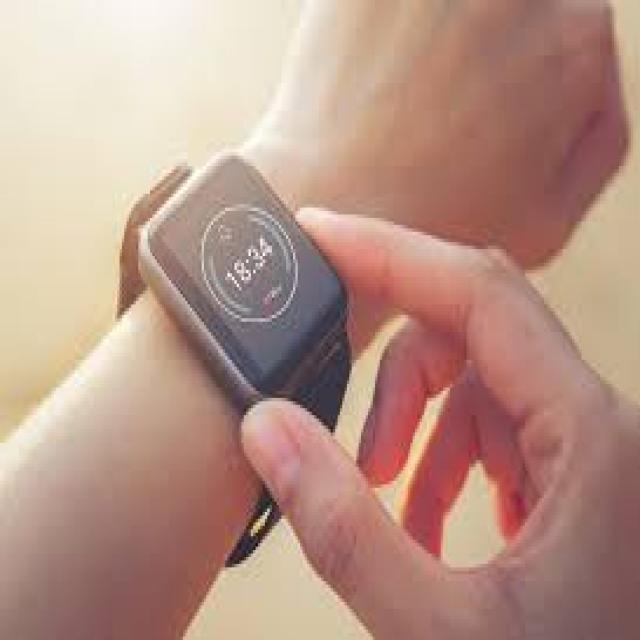objects: (109, 142, 362, 416)
